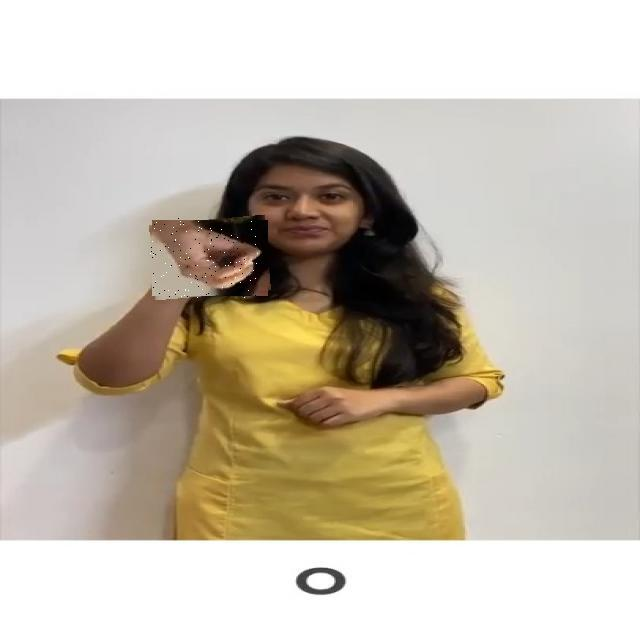O: (150, 218, 270, 298)
